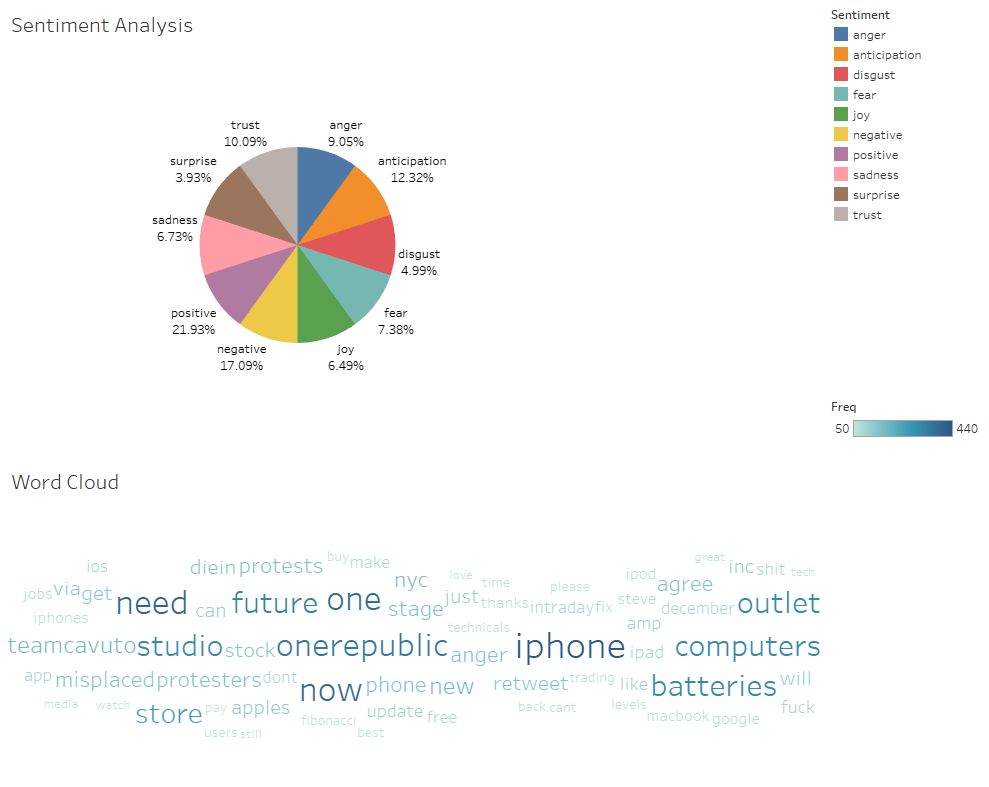

The page's visual inventory and layout, read from the dashboard file:
{"tool":"tableau","page":{"name":"Dashboard 1","canvas":[1000,800],"ordinal":0},"visuals":[{"type":"worksheet","box":[0,0,1000,800]},{"type":"worksheet","param":"horz","box":[8,8,984,784]},{"type":"worksheet","box":[8,8,824,784]},{"type":"worksheet","title":"Sheet 1","mark":"Pie","box":[8,8,824,457]},{"type":"worksheet","box":[832,8,160,784]},{"type":"worksheet","param":"vert","box":[832,8,160,392]},{"type":"worksheet","title":"Sheet 1","mark":"Pie","param":"[federated.19uag5w0of22sb17rlf850ggcijm].[none:sentiment:nk]","box":[832,8,160,226]},{"type":"worksheet","param":"vert","box":[832,400,160,392]},{"type":"worksheet","title":"Sheet 2","mark":"Text","param":"[federated.1l414aw1u4959w1017v0z0duxw0s].[sum:freq:qk]","box":[832,400,160,65]},{"type":"worksheet","title":"Sheet 2","mark":"Text","box":[8,465,824,327]}]}

Visuals, with their boxes in screenshot pixels (x1, y1, x2, y2), scaled from the page's 1000x800 canvas onto the 989x787 screenshot:
worksheet: crop(0, 0, 988, 786)
worksheet: crop(8, 8, 981, 779)
worksheet: crop(8, 8, 823, 779)
"Sheet 1" worksheet (Pie marks): crop(8, 8, 823, 457)
worksheet: crop(823, 8, 981, 779)
worksheet: crop(823, 8, 981, 394)
"Sheet 1" worksheet (Pie marks): crop(823, 8, 981, 230)
worksheet: crop(823, 394, 981, 779)
"Sheet 2" worksheet (Text marks): crop(823, 394, 981, 457)
"Sheet 2" worksheet (Text marks): crop(8, 457, 823, 779)
